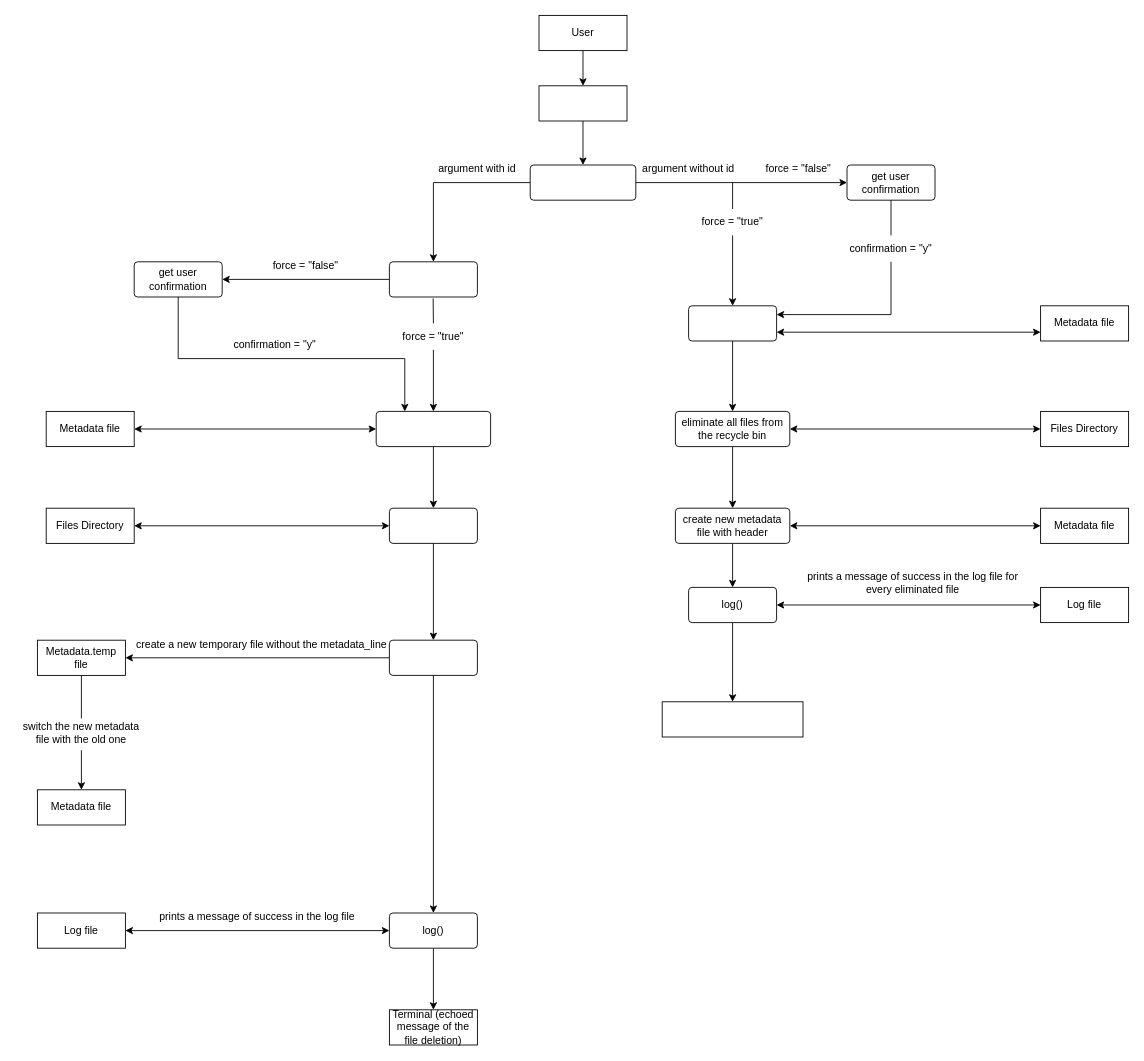
Some shapes in this 1144 by 1061 pixel diagram are drawn without their labels. Each missing label, with the box of its shape:
create metadata.temp: (389, 639, 477, 675)
eliminate file from recycle bin: (389, 507, 477, 543)
empty_recyclebin(): (529, 164, 636, 200)
get deleted file original name: (375, 411, 491, 447)
get deleted file original names: (688, 305, 777, 341)
get deleted file path: (389, 261, 477, 297)
Script: (538, 85, 627, 121)
Terminal (echoed message for every eliminated file): (661, 701, 803, 737)
